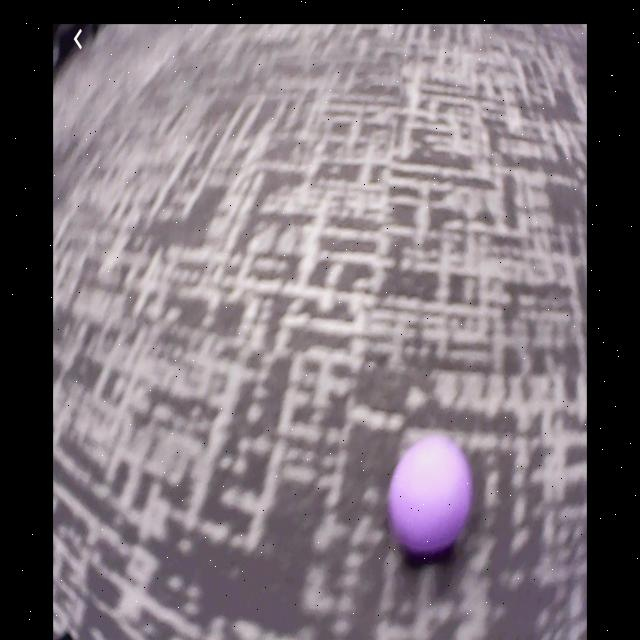ball: (387, 431, 471, 556)
